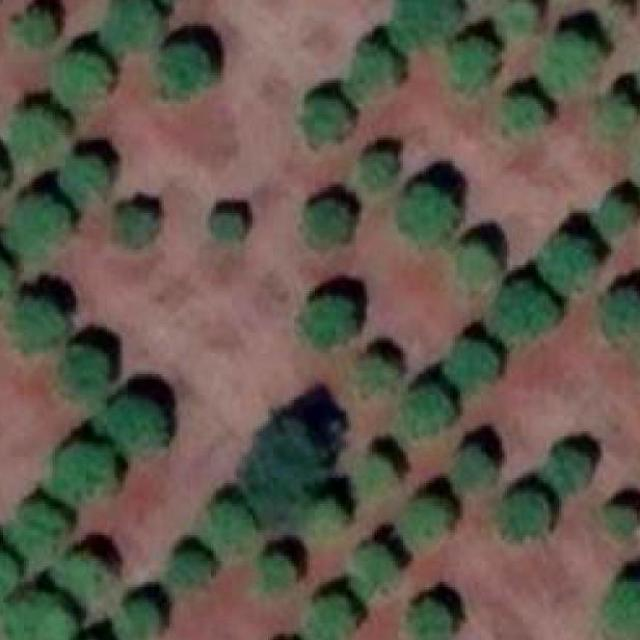Tree: (234, 419, 322, 516), (94, 395, 170, 459), (10, 195, 76, 260), (539, 28, 603, 89), (338, 50, 405, 108), (533, 236, 595, 297), (2, 291, 73, 344), (496, 284, 554, 345), (10, 587, 76, 640), (400, 182, 458, 239), (492, 493, 552, 548), (52, 442, 112, 496), (302, 294, 358, 351), (102, 0, 162, 53), (48, 548, 104, 604), (291, 196, 351, 247), (22, 497, 76, 552), (438, 340, 497, 390), (58, 154, 112, 208), (396, 0, 455, 49), (162, 42, 216, 94), (61, 51, 107, 110), (198, 502, 250, 553), (14, 104, 61, 160), (61, 341, 110, 392), (398, 388, 447, 438), (541, 446, 590, 496), (603, 283, 640, 347), (602, 578, 640, 640), (452, 36, 499, 86), (455, 446, 502, 496), (590, 94, 632, 148), (303, 94, 346, 146), (402, 498, 447, 546), (406, 597, 455, 640), (308, 597, 354, 640), (460, 235, 502, 282), (359, 544, 398, 594), (499, 97, 543, 141), (111, 201, 155, 245), (354, 151, 400, 193), (115, 602, 164, 640), (20, 5, 62, 48), (601, 503, 640, 544), (595, 197, 632, 238), (170, 551, 206, 593), (310, 495, 348, 531), (356, 351, 393, 387), (212, 211, 247, 246), (362, 447, 396, 482), (500, 0, 538, 30), (263, 553, 297, 586), (0, 540, 17, 603), (0, 140, 11, 189), (0, 249, 11, 292)
